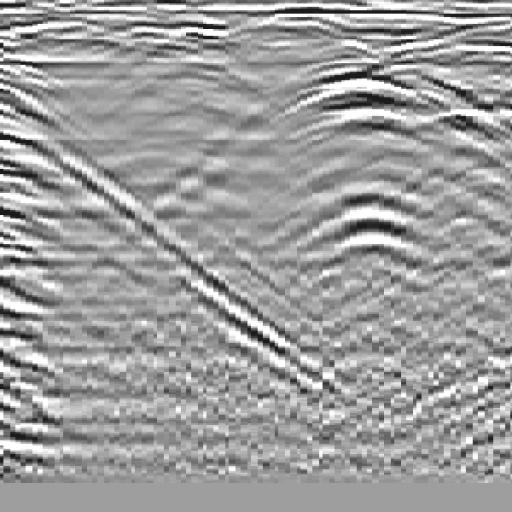non-metallic: (223, 56, 512, 288)
